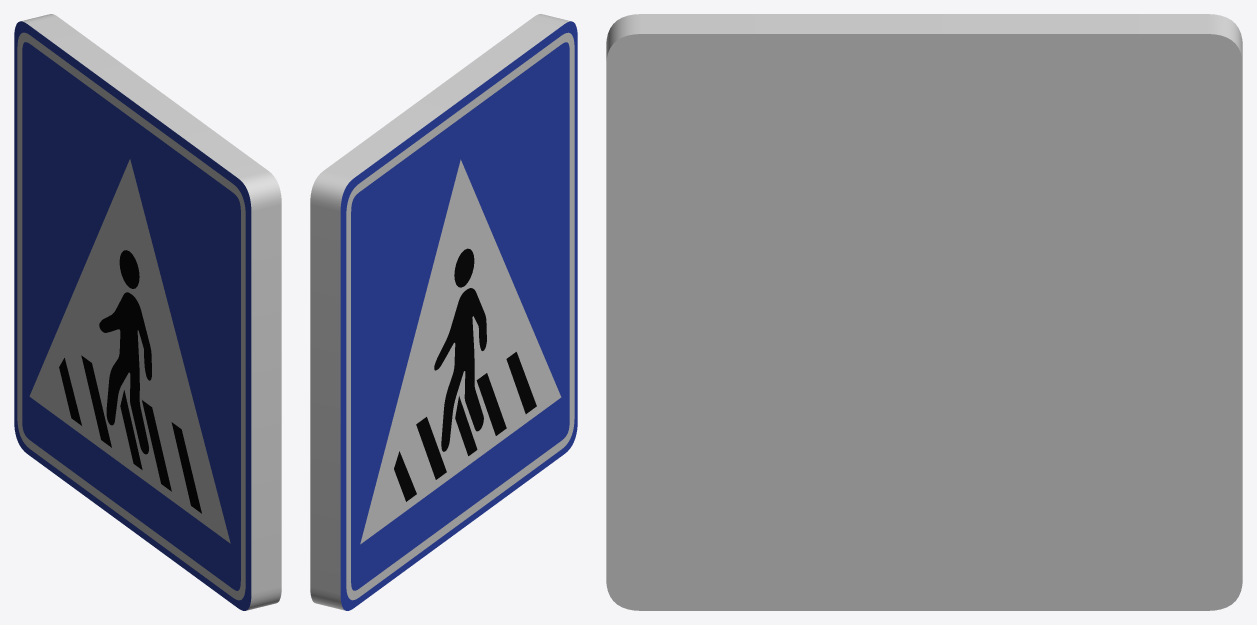
The model's file is Crosswalk.fbx.
3 renders of one model, left to right at view 1: azimuth 30°, elevation 25°; view 2: azimuth 150°, elevation 25°; view 3: azimuth 270°, elevation 25°, orthographic. The views are drawn at different scales.
Visible parts, largest first — view 1: Crosswalk; view 2: Crosswalk; view 3: Crosswalk.
Part boxes in pixels (box(x1,y1,x2,y2)): Crosswalk: box(14, 14, 281, 610); Crosswalk: box(310, 14, 577, 610); Crosswalk: box(606, 14, 1242, 610).
Bounding box in the file's own units: 0.0849 × 1.01 × 1.01.
